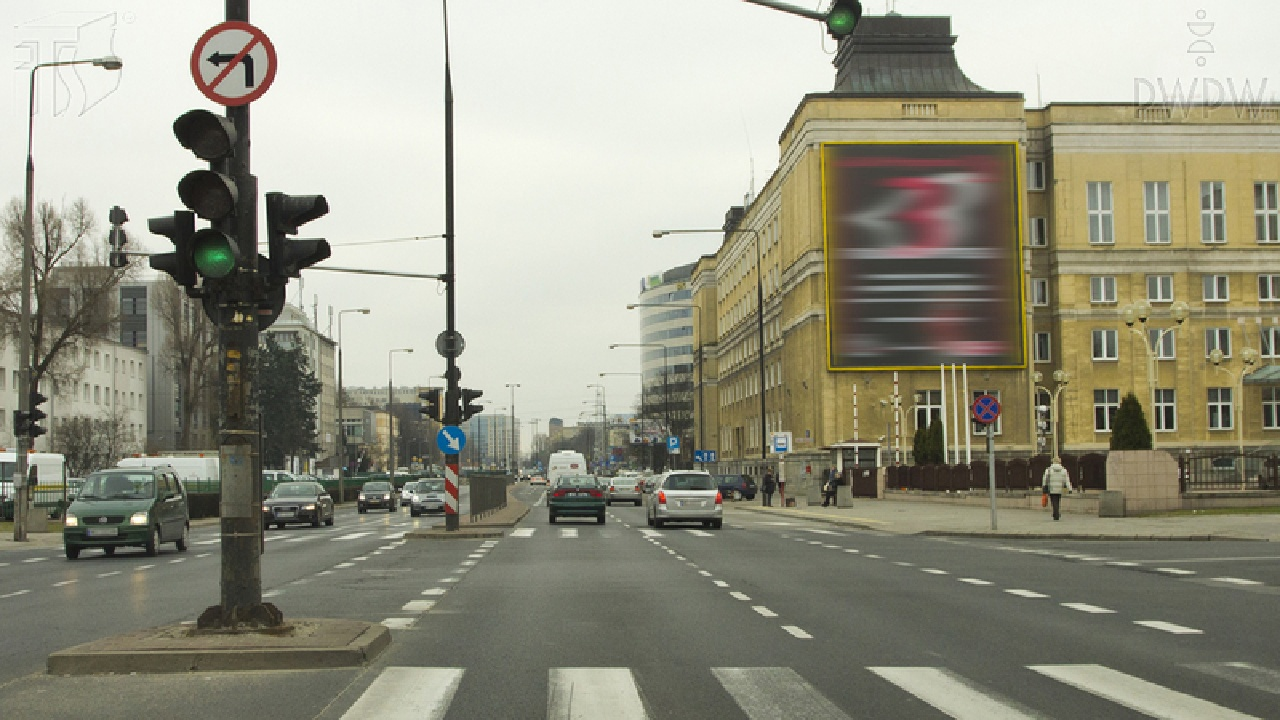B21: (189, 19, 277, 106)
B36: (972, 395, 1002, 423)
C9: (437, 426, 467, 454)
Green: (183, 113, 239, 277)
